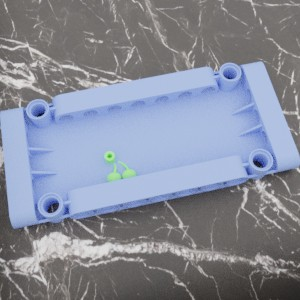lego: (0, 61, 299, 228), (104, 151, 136, 184)
